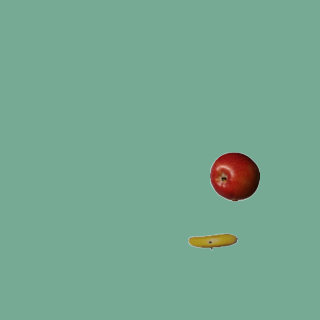Apple Braeburn: (209, 151, 259, 201)
Banana: (187, 216, 237, 266)
